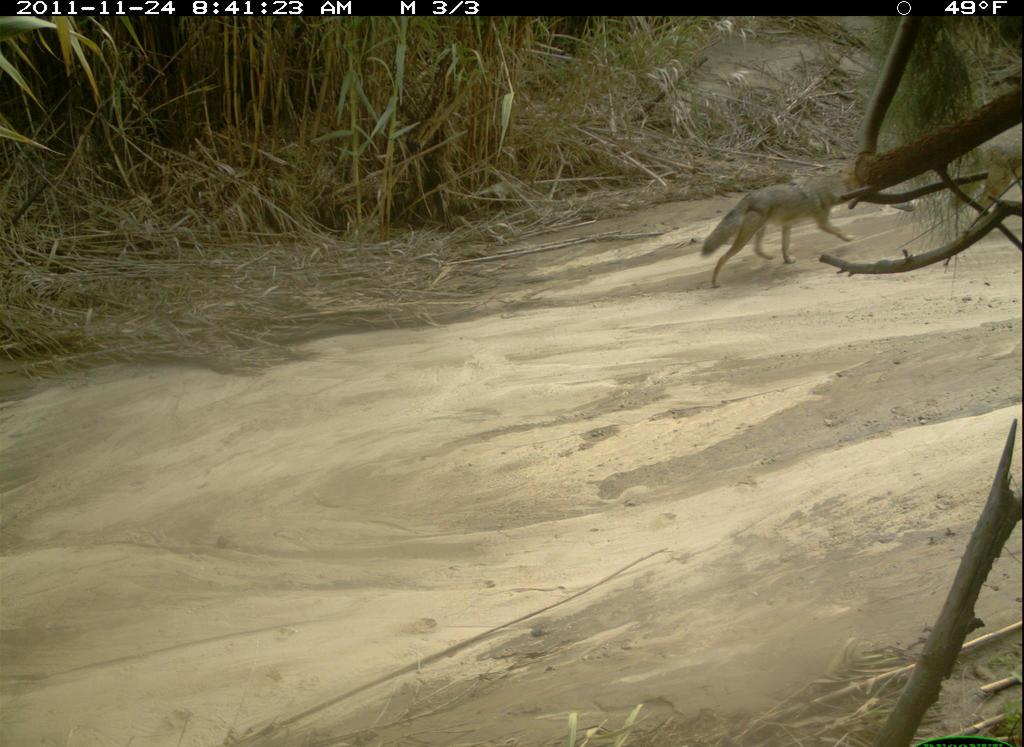coyote: (699, 155, 868, 291)
